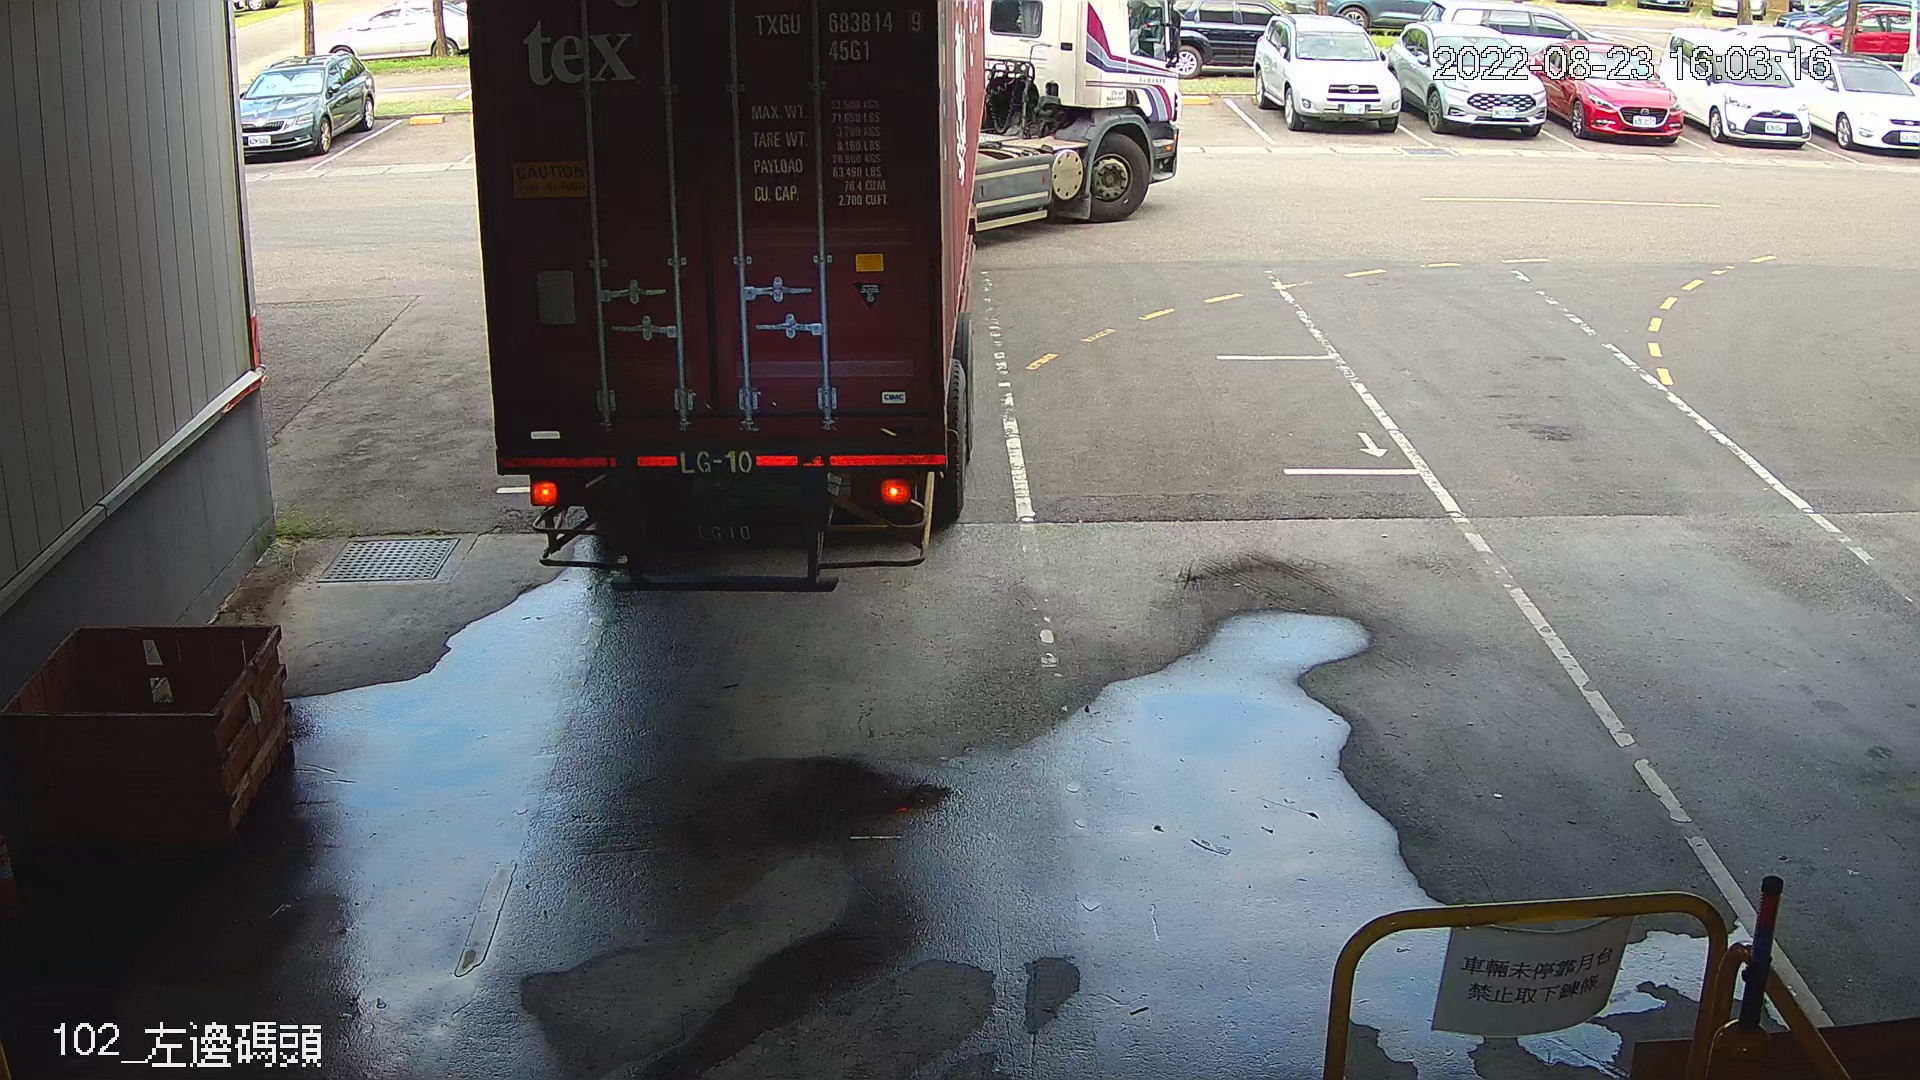container: (745, 3, 928, 73)
